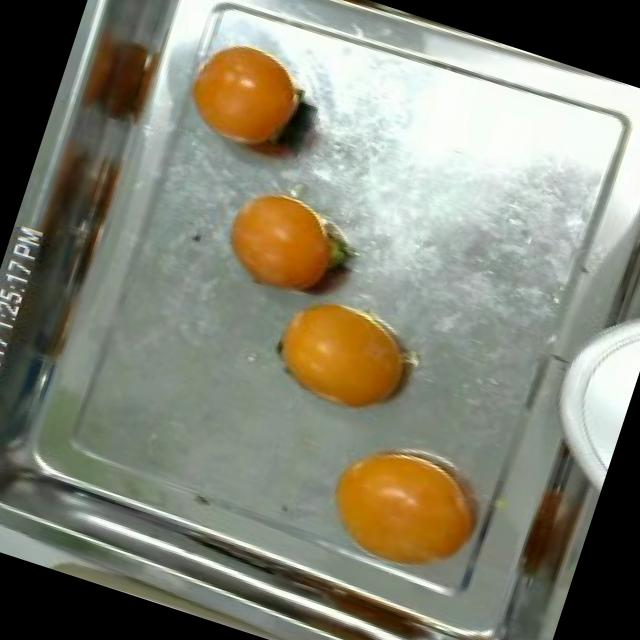Fruit: (300, 414, 516, 605), (253, 282, 439, 438), (202, 170, 370, 317), (167, 23, 328, 174), (56, 8, 194, 148)
